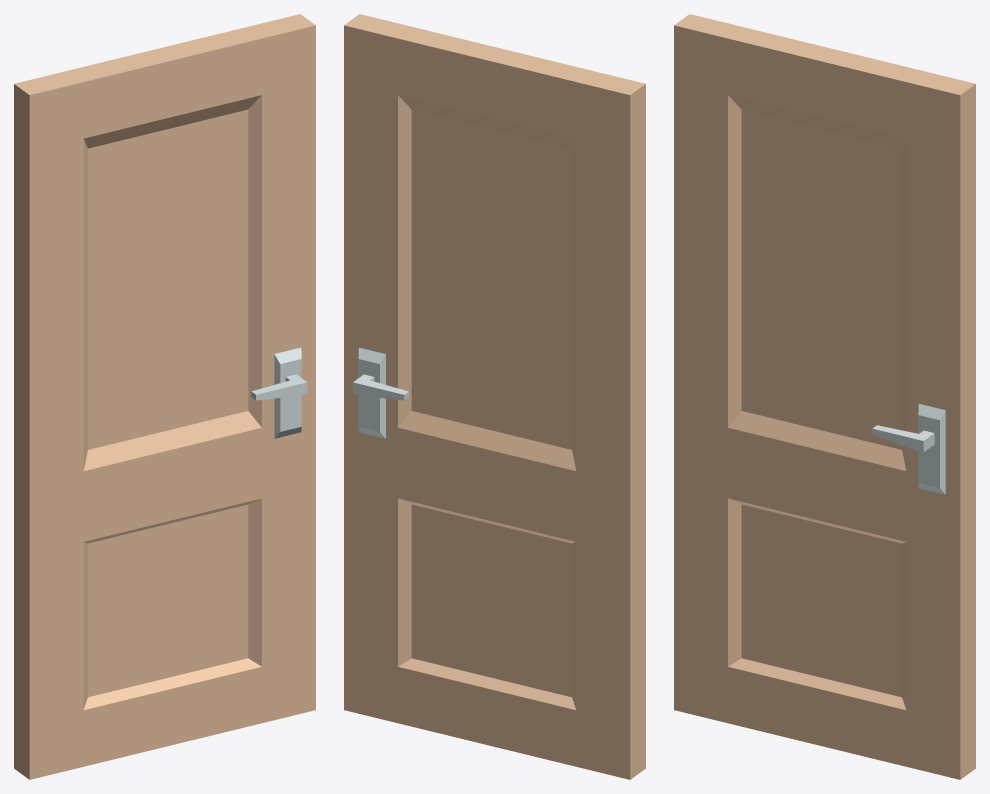
The model's file is doorway.glb.
3 views of the same model, side by side, from view 1: azimuth 30°, elevation 25°; view 2: azimuth 150°, elevation 25°; view 3: azimuth 330°, elevation 25° (orthographic).
Parts seen in each view (by area): view 1: door; view 2: door; view 3: door.
Part boxes in pixels (bbox=[...]): door: bbox=[14, 14, 315, 779]; door: bbox=[344, 14, 645, 779]; door: bbox=[674, 14, 975, 779].
Bounding box in the file's own units: 0.4293 × 0.9812 × 0.1134.
